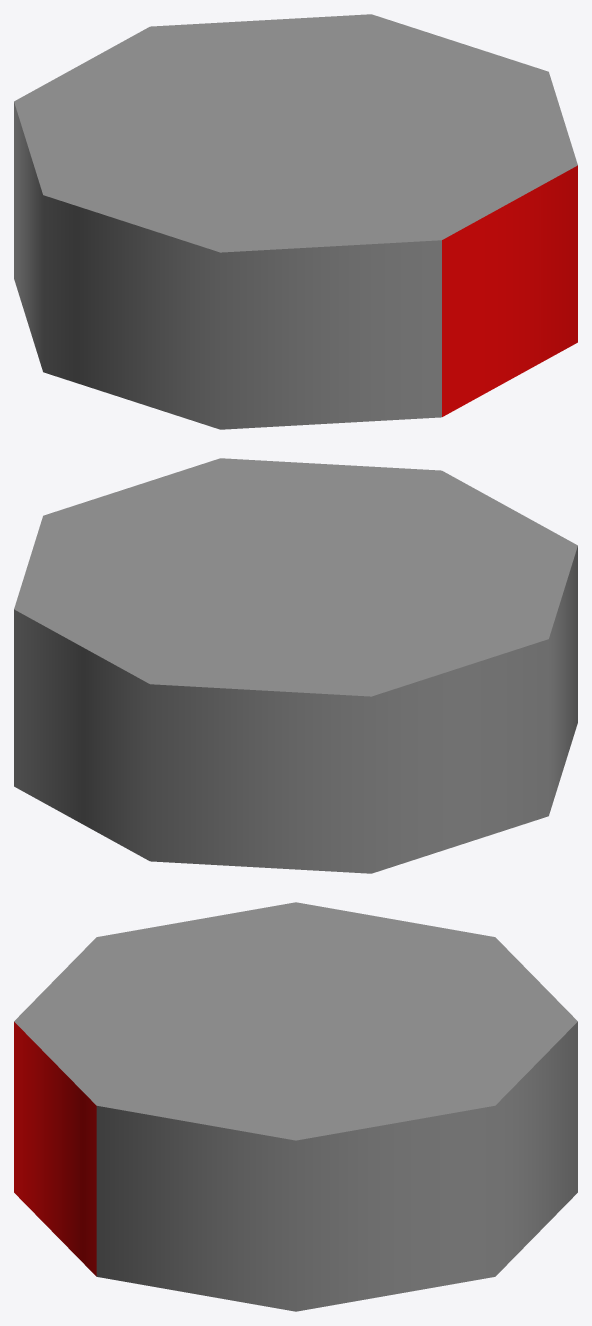
The model's file is Rotatable_Cylinder.FBX.
3 renders of one model, top to bottom at view 1: azimuth 30°, elevation 25°; view 2: azimuth 150°, elevation 25°; view 3: azimuth 270°, elevation 25°, orthographic. The views are drawn at different scales.
Parts seen in each view (by area): view 1: Cylinder001; view 2: Cylinder001; view 3: Cylinder001.
Part boxes in pixels (<box>): Cylinder001: <box>14,14,577,429</box>; Cylinder001: <box>14,458,577,873</box>; Cylinder001: <box>14,902,577,1311</box>.
Bounding box in the file's own units: 33.05 × 11.06 × 33.05.
